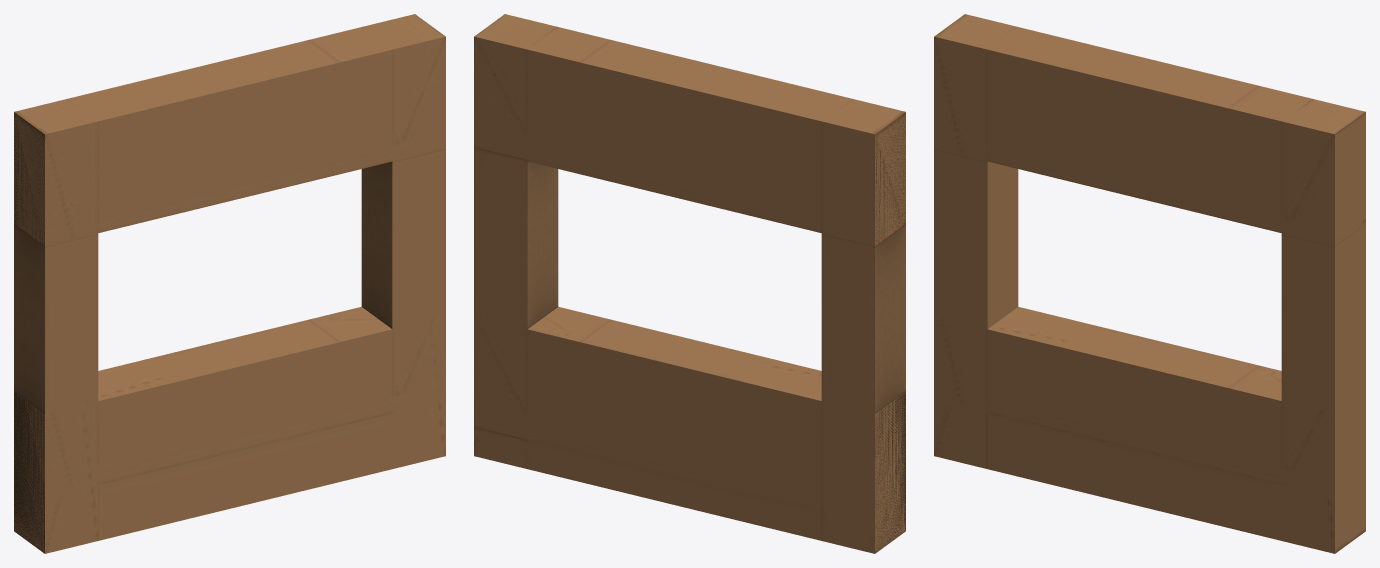
The model's file is BD_window.glb.
3 views of the same model, side by side, from view 1: azimuth 30°, elevation 25°; view 2: azimuth 150°, elevation 25°; view 3: azimuth 330°, elevation 25° (orthographic).
Visible parts, largest first — view 1: BD_window; view 2: BD_window; view 3: BD_window.
Boxes of the visible parts, x1,y1,x2,y2 form: BD_window: [14, 14, 445, 553]; BD_window: [474, 14, 905, 553]; BD_window: [934, 14, 1365, 553].
Size of the model in its own units: 3 by 3 by 0.4.
Materials: 1 (1 with a texture image).
